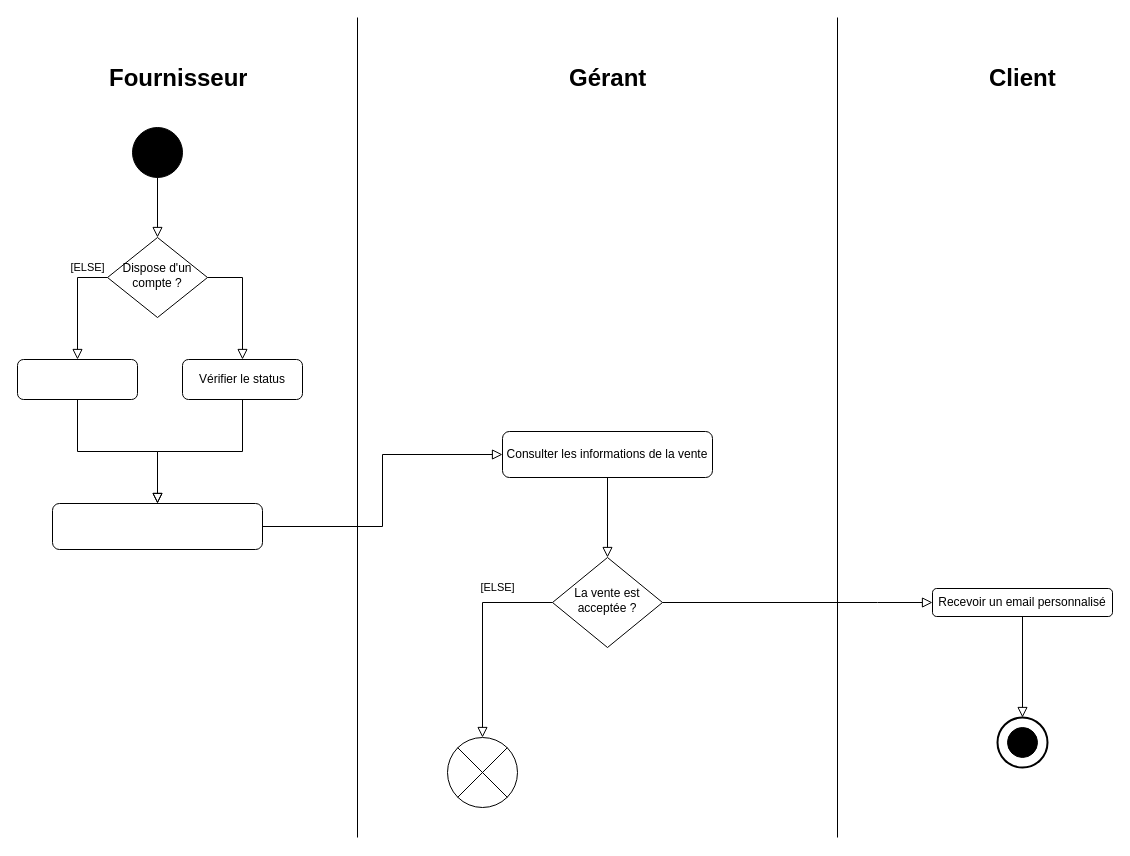
The diagram is 1130 pixels wide and 856 high, and some of its shapes have lost their labels. The centre of each missing label's shape, as x and y in pixels:
"Remplir informations (spécialité, matériel)" belongs at [77,379].
"Remplir les informations de la vente" belongs at [157,526].
